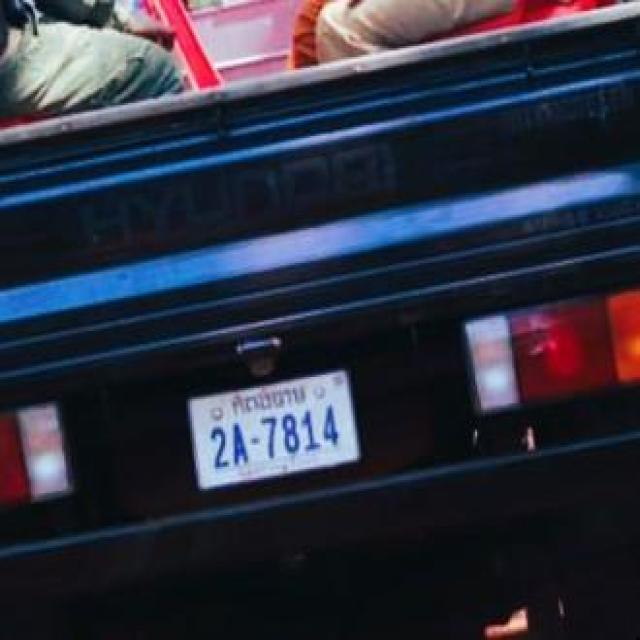Kampong_Cham: (233, 386, 308, 416)
